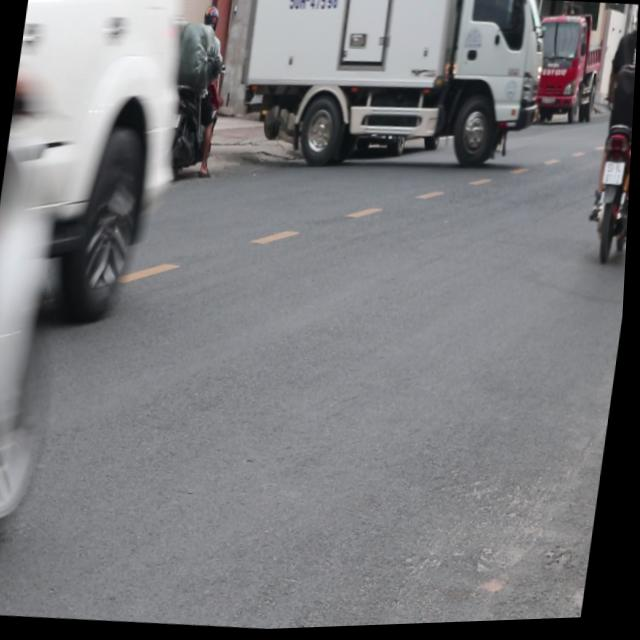licenseplate: (580, 5, 639, 267), (159, 0, 236, 184)
motorcyclist: (630, 7, 639, 32)
nohelmet: (603, 163, 626, 189)
